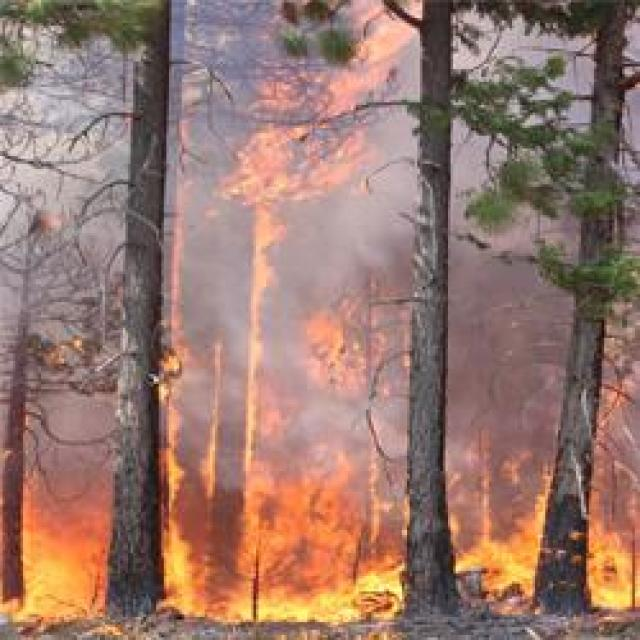fire: (170, 0, 422, 634), (10, 478, 111, 638), (454, 468, 551, 597)
